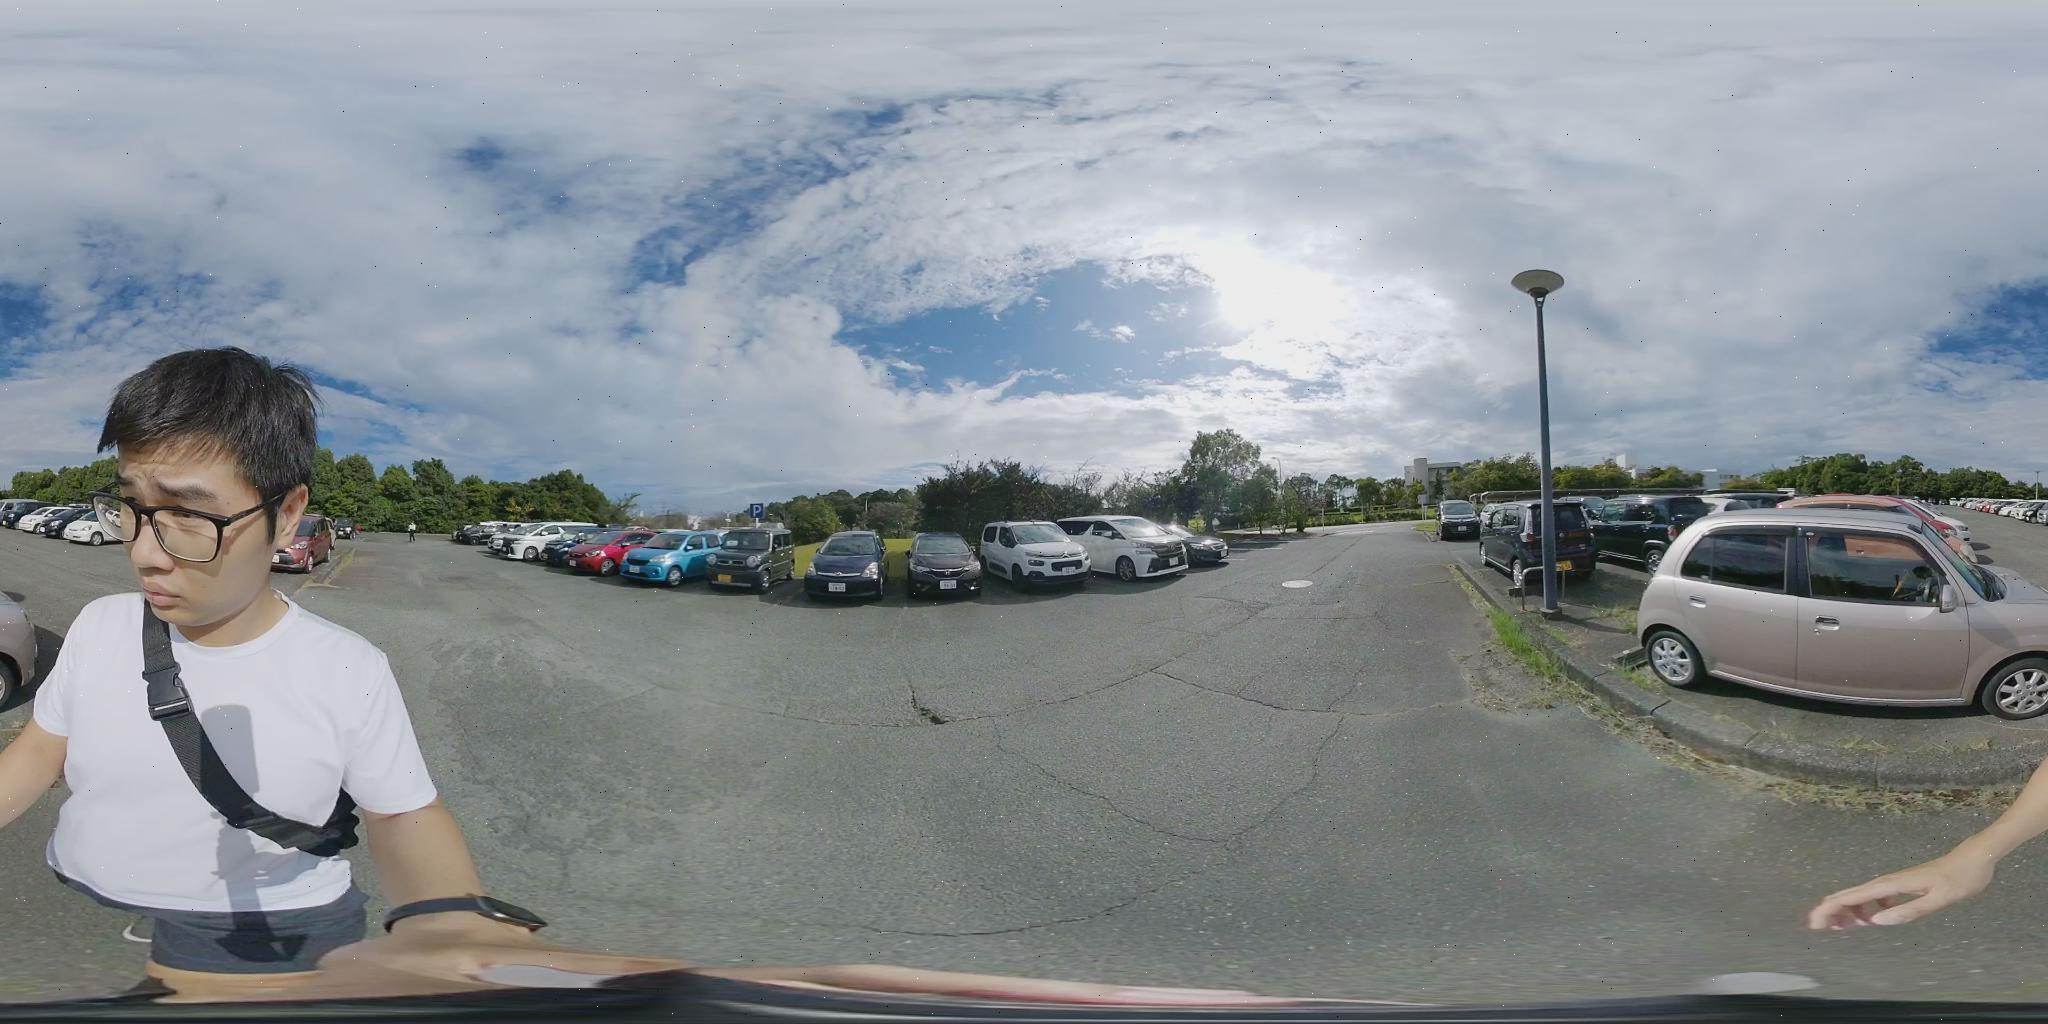car: (1621, 505, 2039, 718), (1484, 494, 1627, 579), (1041, 516, 1209, 579), (974, 521, 1089, 584), (803, 529, 889, 605), (707, 526, 799, 596), (620, 529, 718, 589), (515, 526, 635, 573), (903, 532, 980, 594), (563, 529, 658, 576), (488, 524, 602, 563), (39, 508, 123, 546), (21, 504, 108, 538), (7, 500, 63, 532), (1433, 499, 1479, 536), (0, 498, 42, 529)
